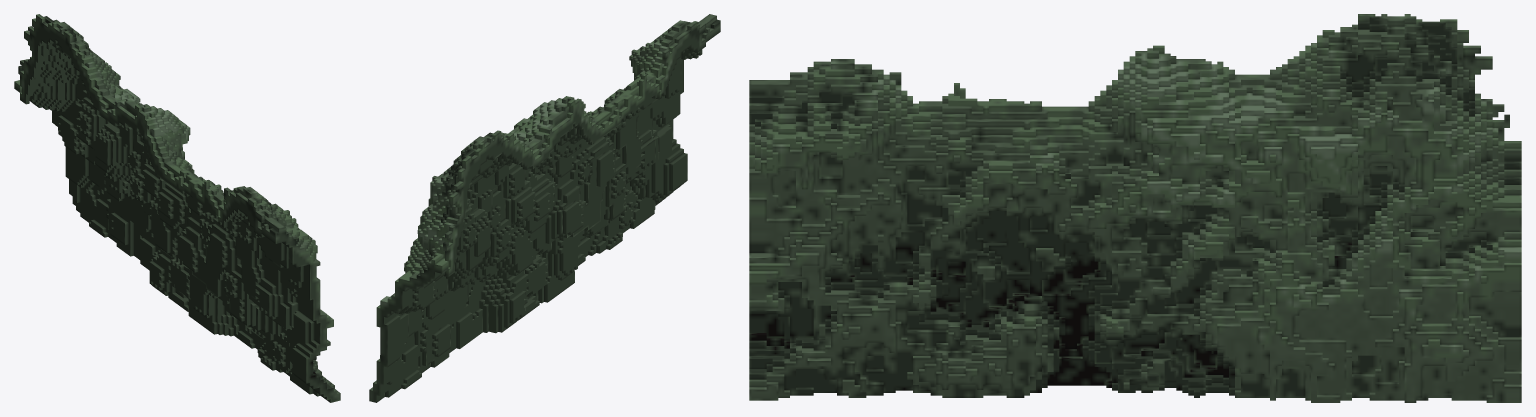
Rendered from treeline01-3-4r.fbx.
The picture shows the model from 3 angles, left to right: view 1: azimuth 30°, elevation 25°; view 2: azimuth 150°, elevation 25°; view 3: azimuth 270°, elevation 25°; orthographic projection. The views are drawn at different scales.
Visible parts, largest first — view 1: treeline01-3-4r; view 2: treeline01-3-4r; view 3: treeline01-3-4r.
Boxes of the visible parts, <box> form: treeline01-3-4r: <box>14,14,340,402</box>; treeline01-3-4r: <box>369,14,720,402</box>; treeline01-3-4r: <box>749,14,1521,402</box>.
Bounding box in the file's own units: 21 × 64 × 132.
